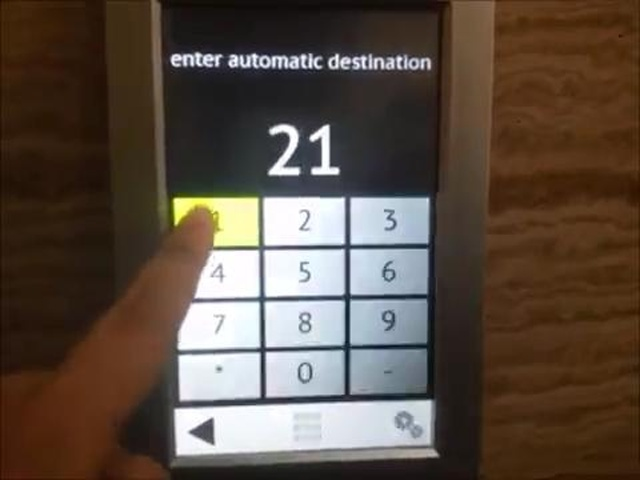*: (178, 353, 261, 401)
-: (350, 349, 428, 395)
0: (265, 351, 347, 398)
2: (261, 195, 347, 247)
3: (350, 196, 429, 246)
4: (176, 249, 261, 299)
5: (263, 249, 346, 298)
6: (349, 249, 430, 296)
7: (176, 302, 260, 351)
8: (263, 300, 346, 348)
9: (349, 299, 429, 347)
